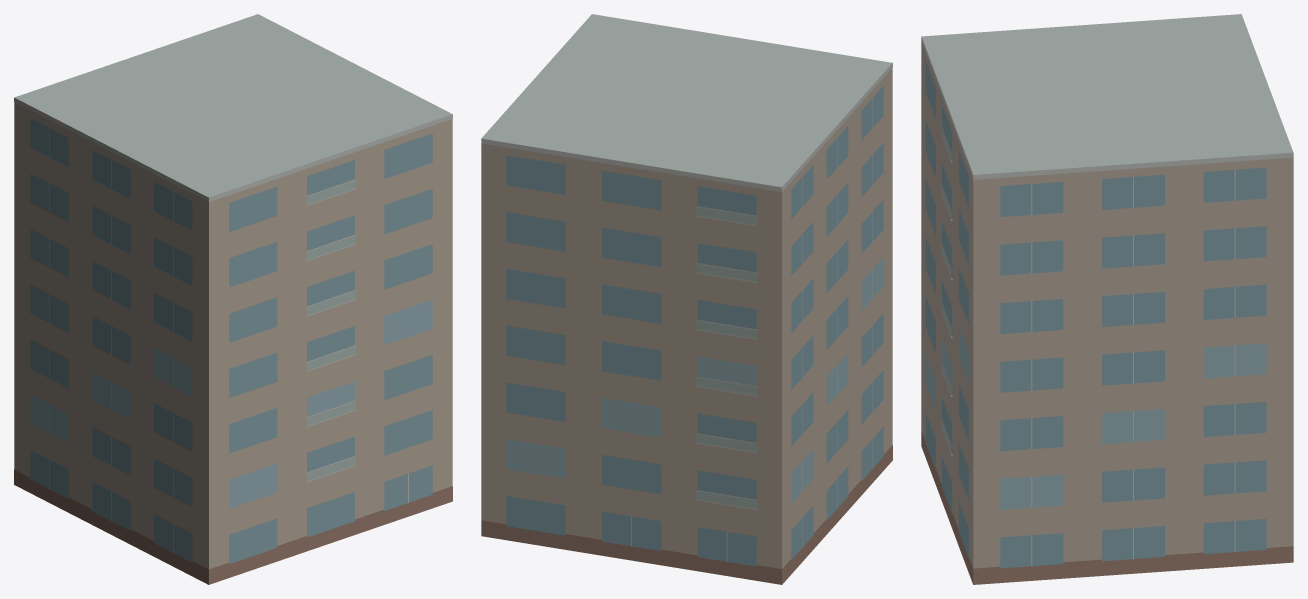
The model's file is survey-upis-32807735.glb.
3 views of the same model, side by side, from view 1: azimuth 30°, elevation 25°; view 2: azimuth 150°, elevation 25°; view 3: azimuth 270°, elevation 25° (orthographic). The views are drawn at different scales.
Visible parts, largest first — view 1: survey-upis-32807735.tmp; view 2: survey-upis-32807735.tmp; view 3: survey-upis-32807735.tmp.
Boxes of the visible parts, x1=… form: survey-upis-32807735.tmp: x1=14, y1=14, x2=452, y2=584; survey-upis-32807735.tmp: x1=481, y1=14, x2=892, y2=584; survey-upis-32807735.tmp: x1=921, y1=14, x2=1293, y2=584.
Size of the model in its own units: 17.37 by 20.6 by 16.96.
